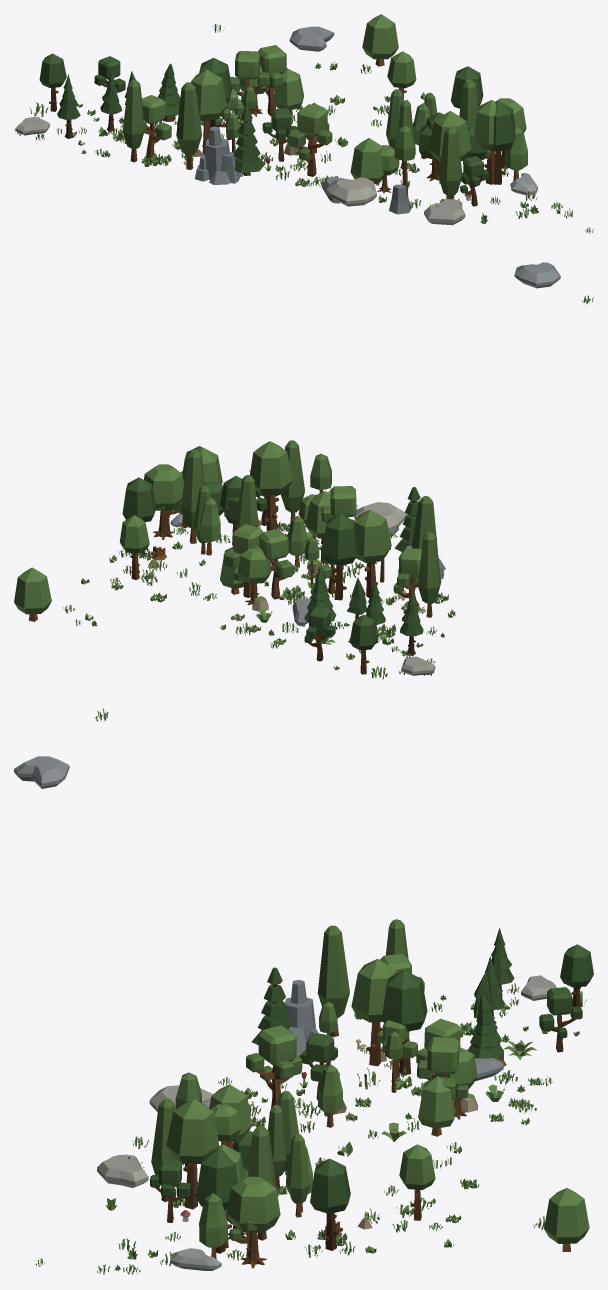
File: cell_x-3_z1_render.gltf
3 views of the same model, one above another, from view 1: azimuth 30°, elevation 25°; view 2: azimuth 150°, elevation 25°; view 3: azimuth 270°, elevation 25° (orthographic). The views are drawn at different scales.
Parts seen in each view (by area): view 1: cell_x-3_z1; view 2: cell_x-3_z1; view 3: cell_x-3_z1.
Part boxes in pixels (bbox=[...]): cell_x-3_z1: bbox=[14, 14, 593, 233]; cell_x-3_z1: bbox=[14, 262, 593, 679]; cell_x-3_z1: bbox=[14, 708, 593, 1275].
Bounding box in the file's own units: 41.73 × 28.37 × 42.79.
